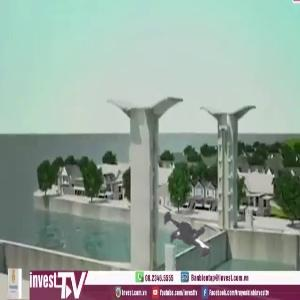drone: (128, 181, 246, 299)
